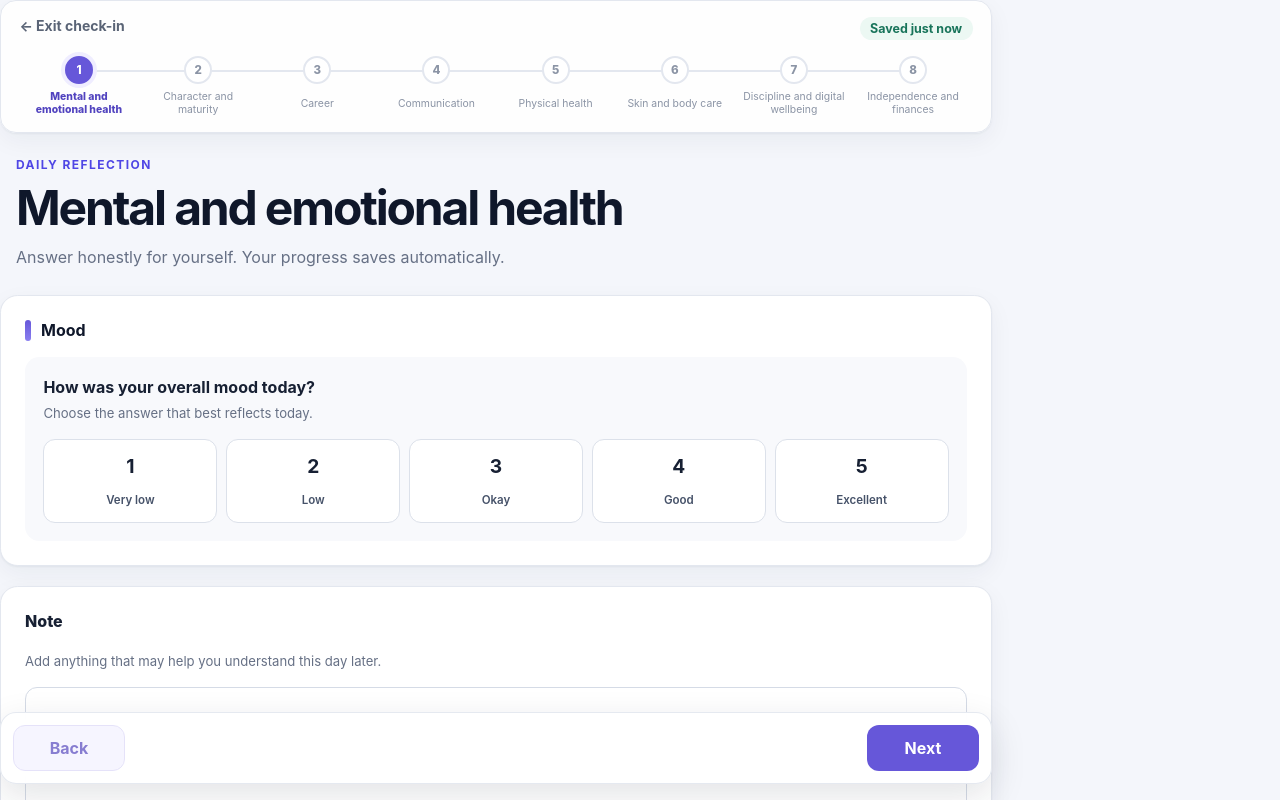
DailyCheckInPage › offers Retry after a failed save
Click the radio button with aria-label "5: Excellent" at (862, 481), box left=775, top=439, right=949, bottom=523
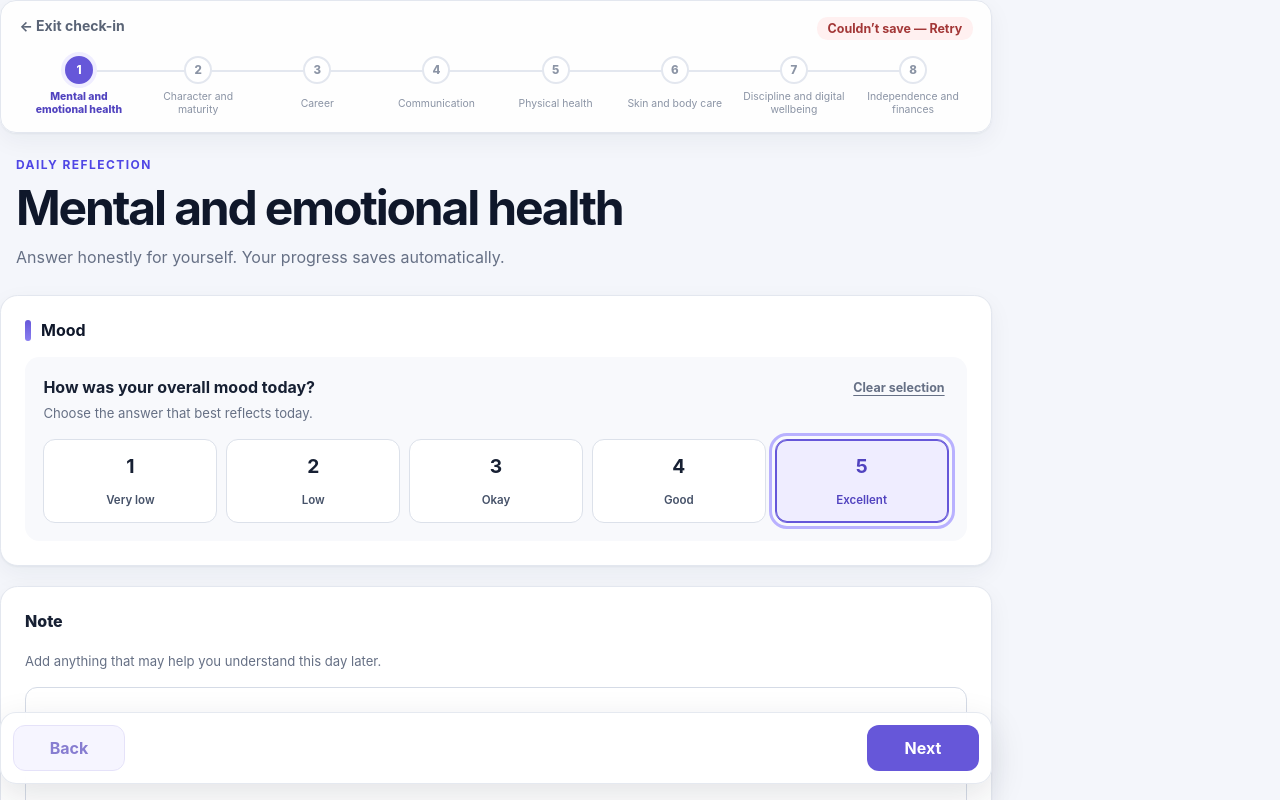
Click the button "Couldn’t save — Retry" at (895, 28), box left=817, top=17, right=973, bottom=40
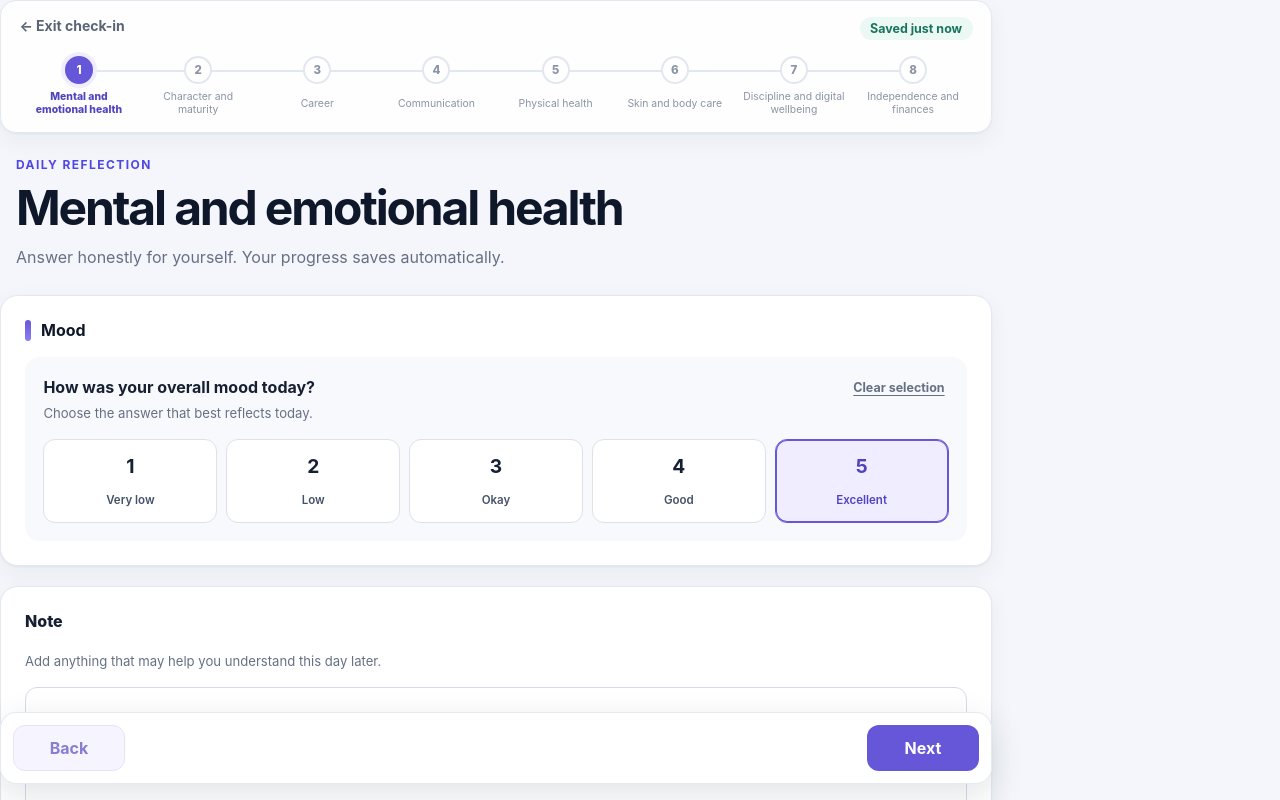
Expected: the button "Saved just now" is shown, left=860, top=17, right=973, bottom=40
